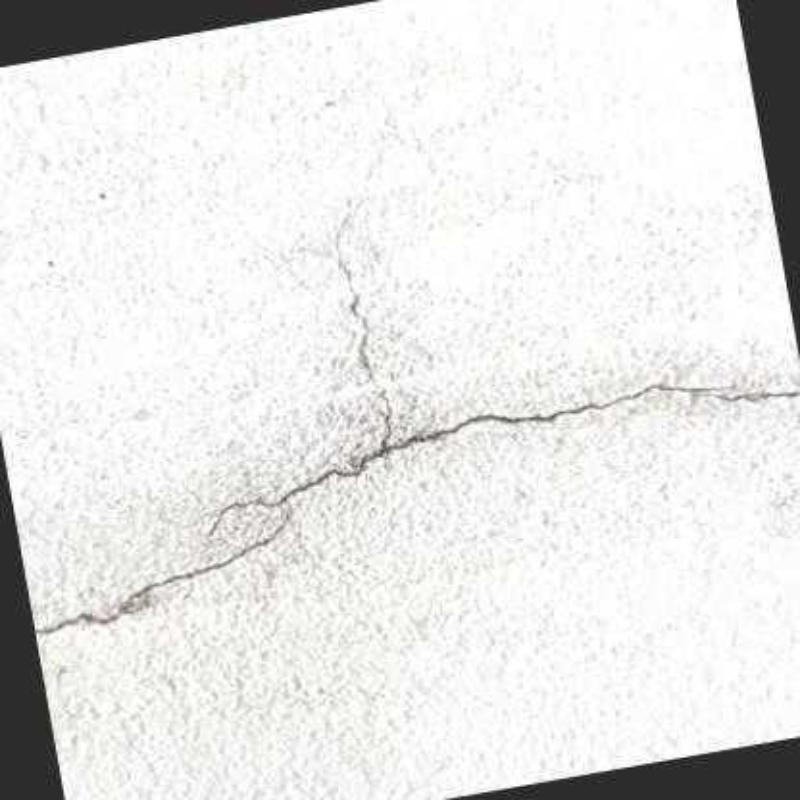crack: (37, 382, 798, 637), (333, 252, 398, 452)
